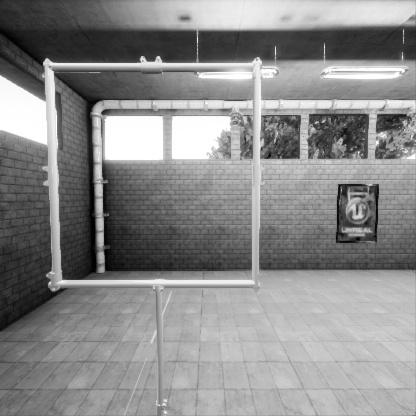gate: (42, 134, 280, 368)
